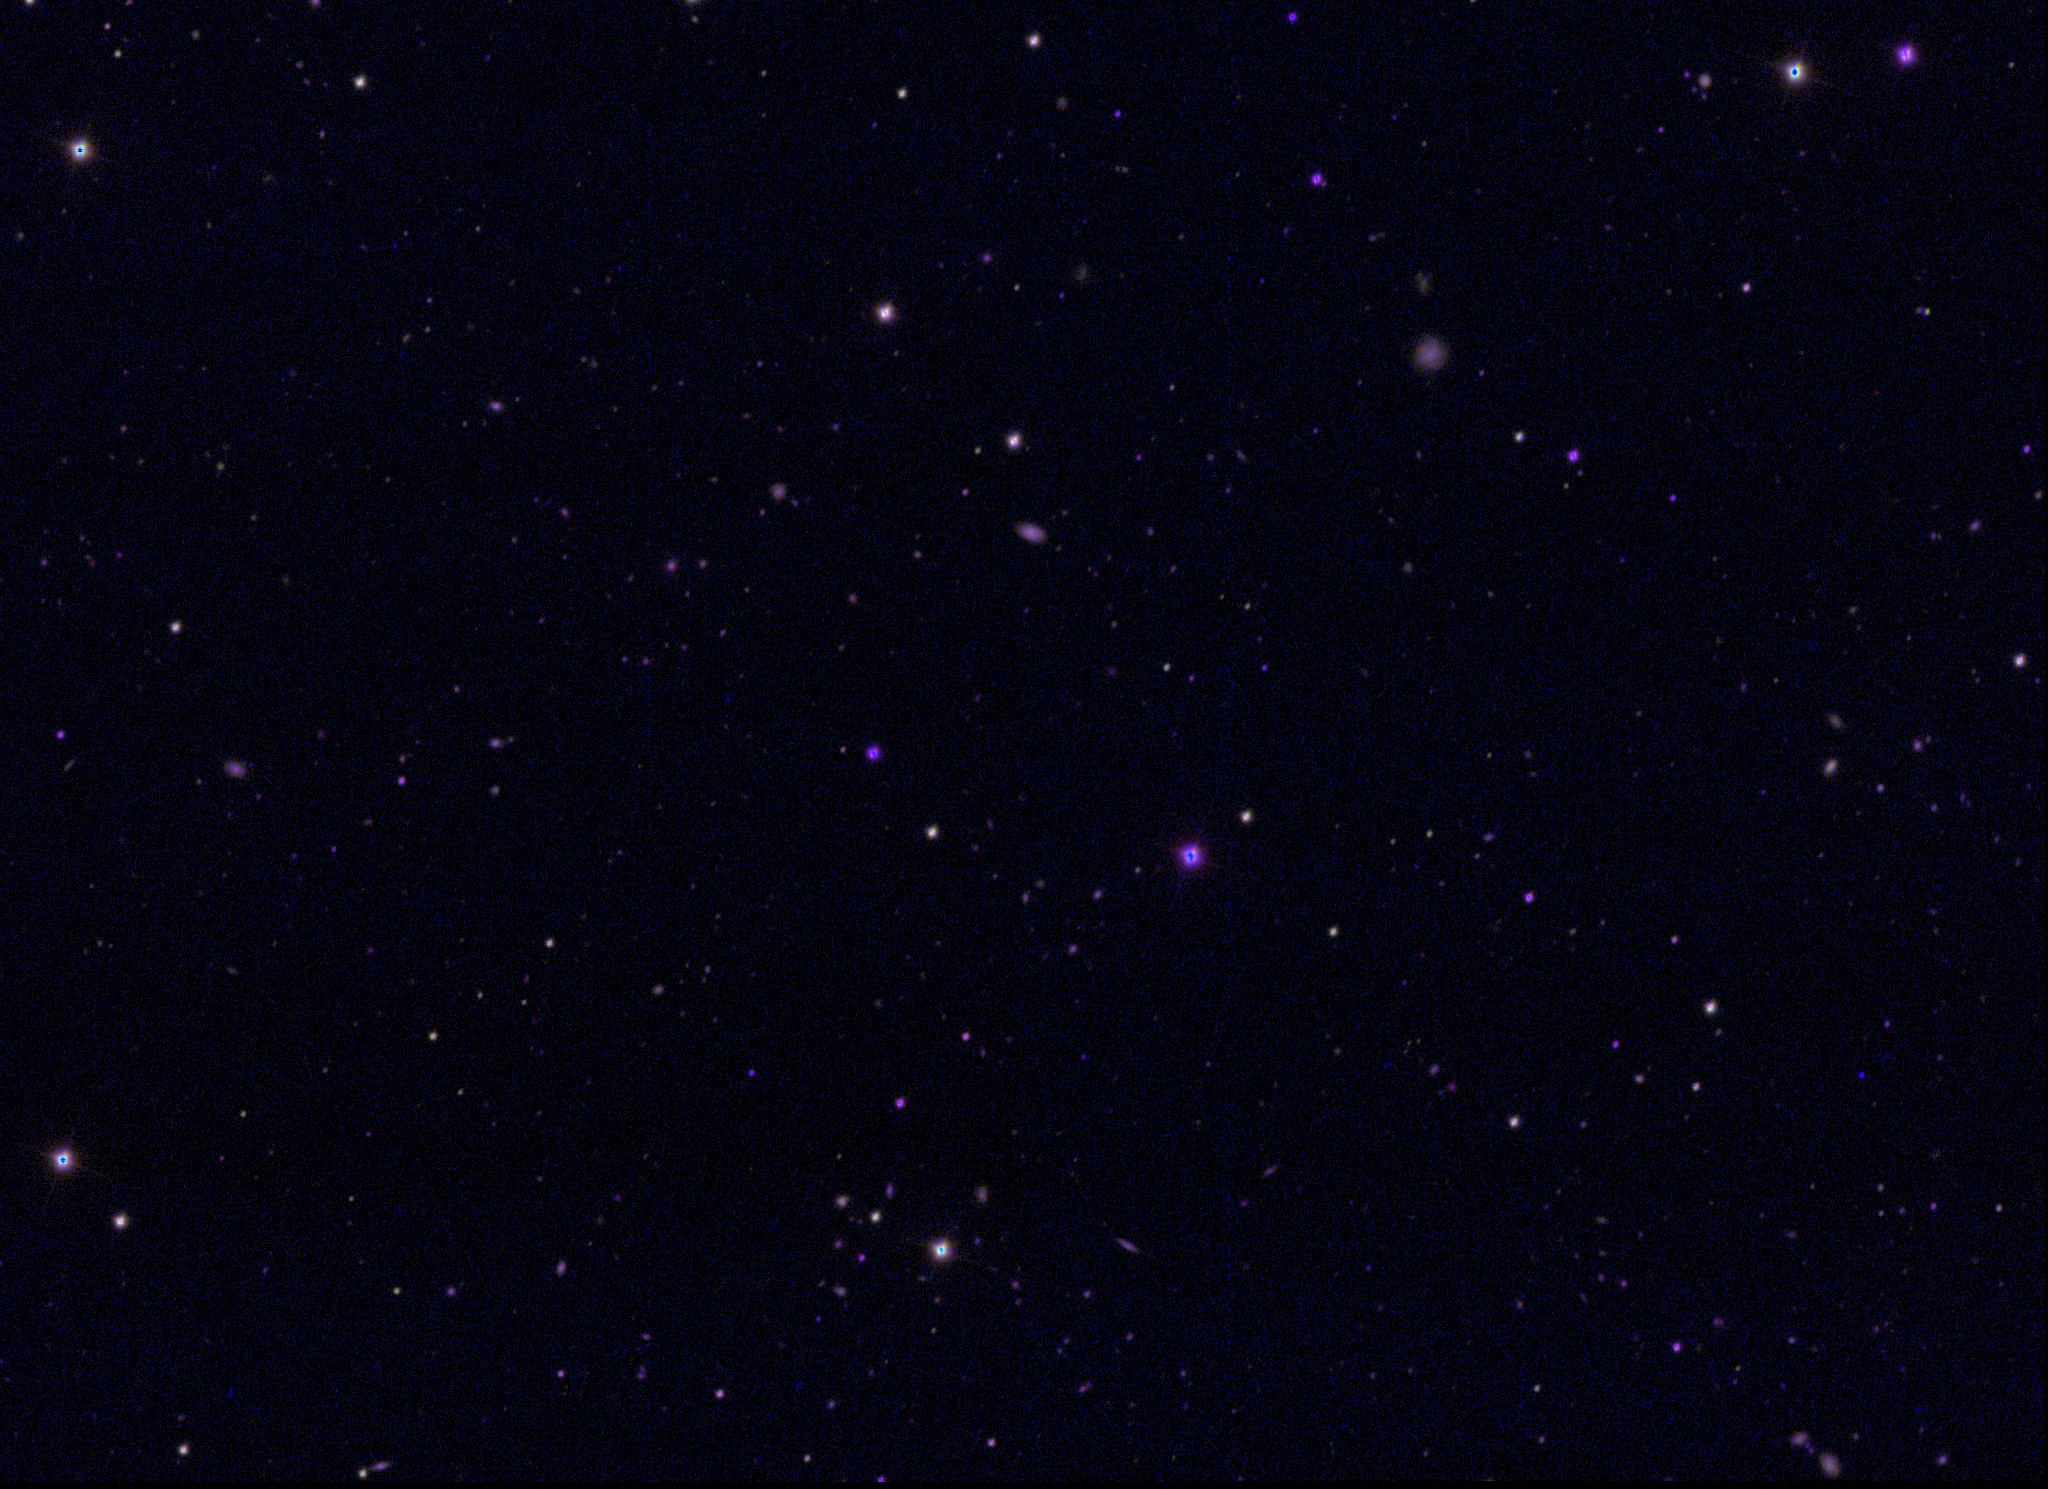L: (1856, 1067, 1868, 1082)
